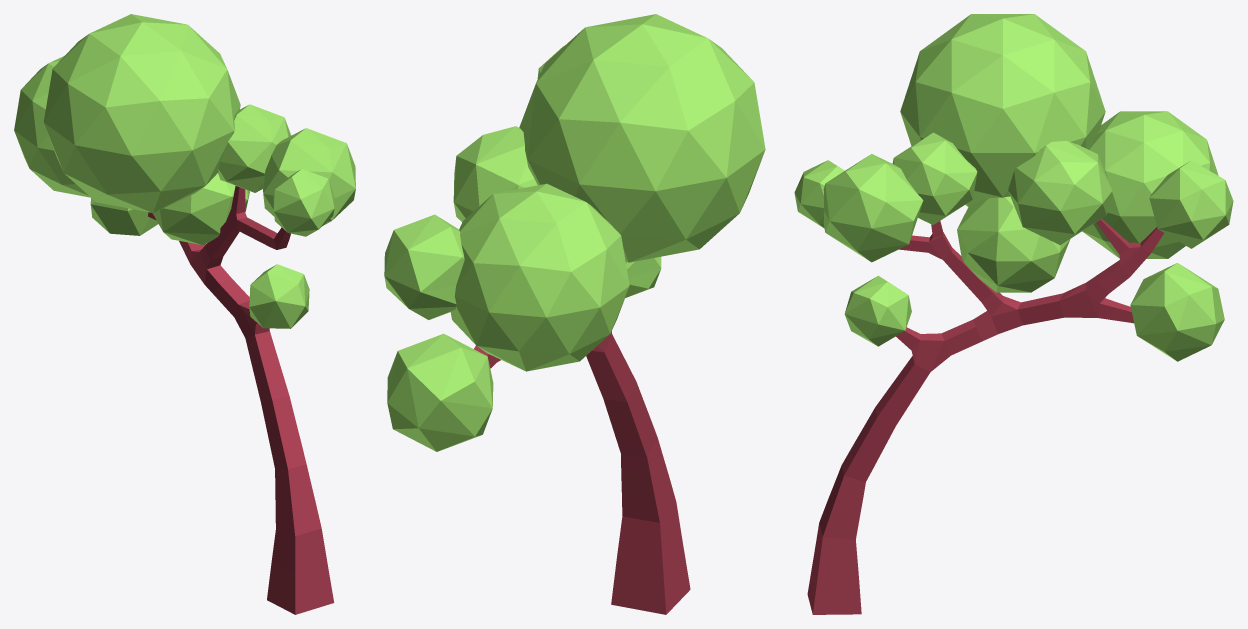
File: tree.glb
The picture shows the model from 3 angles, left to right: view 1: azimuth 30°, elevation 25°; view 2: azimuth 150°, elevation 25°; view 3: azimuth 270°, elevation 25°; orthographic projection. The views are drawn at different scales.
Visible parts, largest first — view 1: tree; view 2: tree; view 3: tree.
Boxes of the visible parts, x1,y1,x2,y2 form: tree: (14,14,355,614); tree: (384,14,765,614); tree: (794,14,1233,614).
Bounding box in the file's own units: 1.19 × 2.65 × 1.92.
